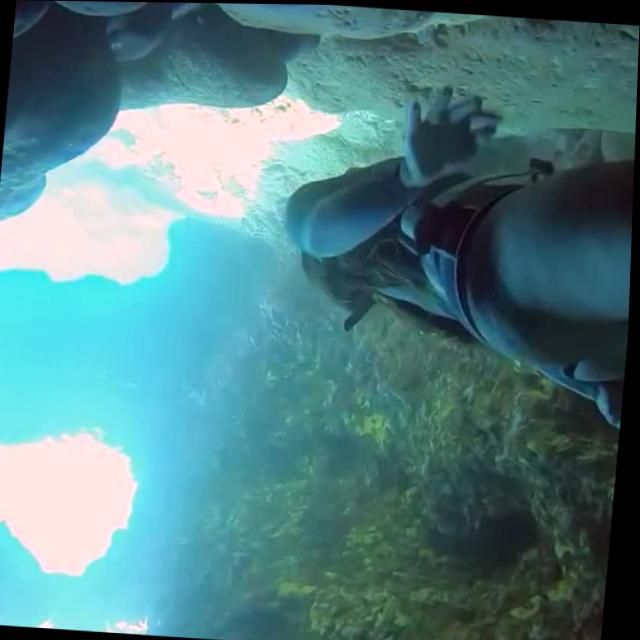human: (255, 3, 640, 479)
